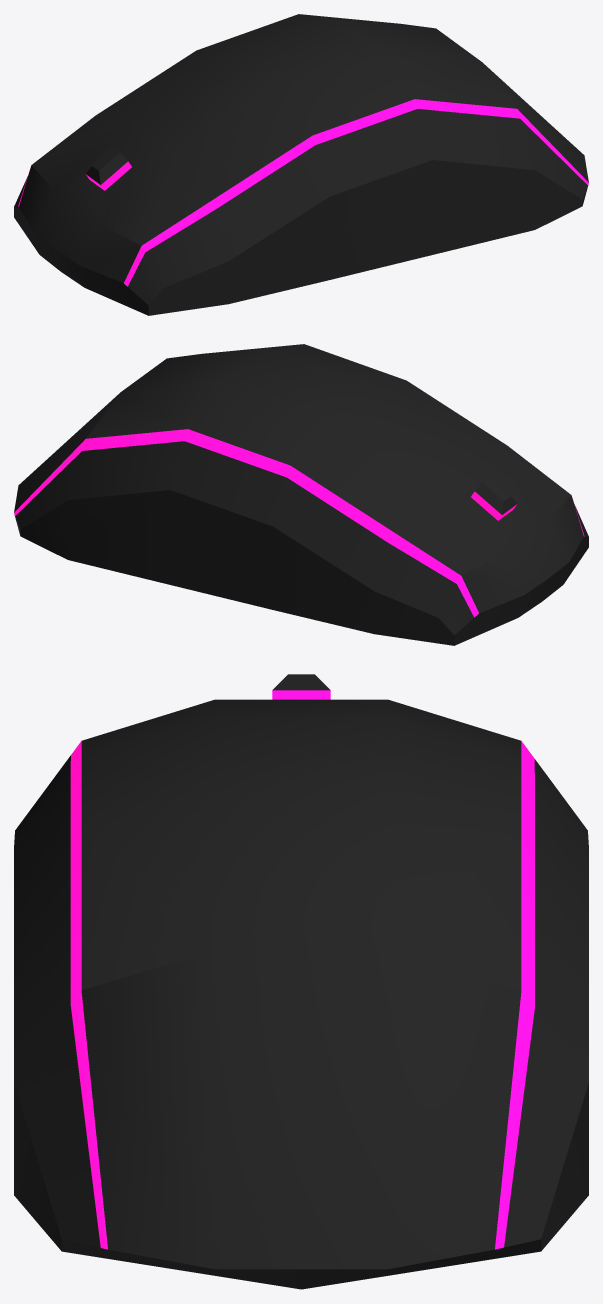
File: mouse.fbx
The picture shows the model from 3 angles, top to bottom: view 1: azimuth 30°, elevation 25°; view 2: azimuth 150°, elevation 25°; view 3: azimuth 270°, elevation 25°; orthographic projection. The views are drawn at different scales.
Visible parts, largest first — view 1: KFkasMouse; view 2: KFkasMouse; view 3: KFkasMouse.
Boxes of the visible parts, x1,y1,x2,y2 form: KFkasMouse: (14,14,588,315); KFkasMouse: (14,344,588,645); KFkasMouse: (14,674,588,1289).
Size of the model in its own units: 15.94 by 4.93 by 8.28.
